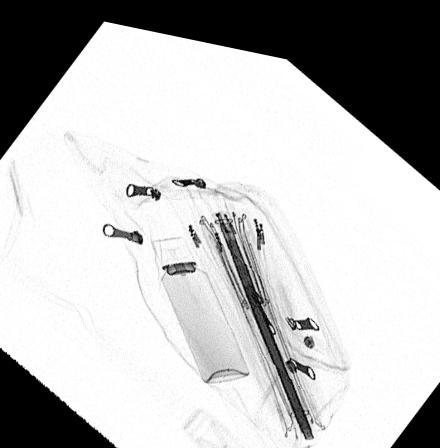Sprayer: (151, 228, 249, 374)
